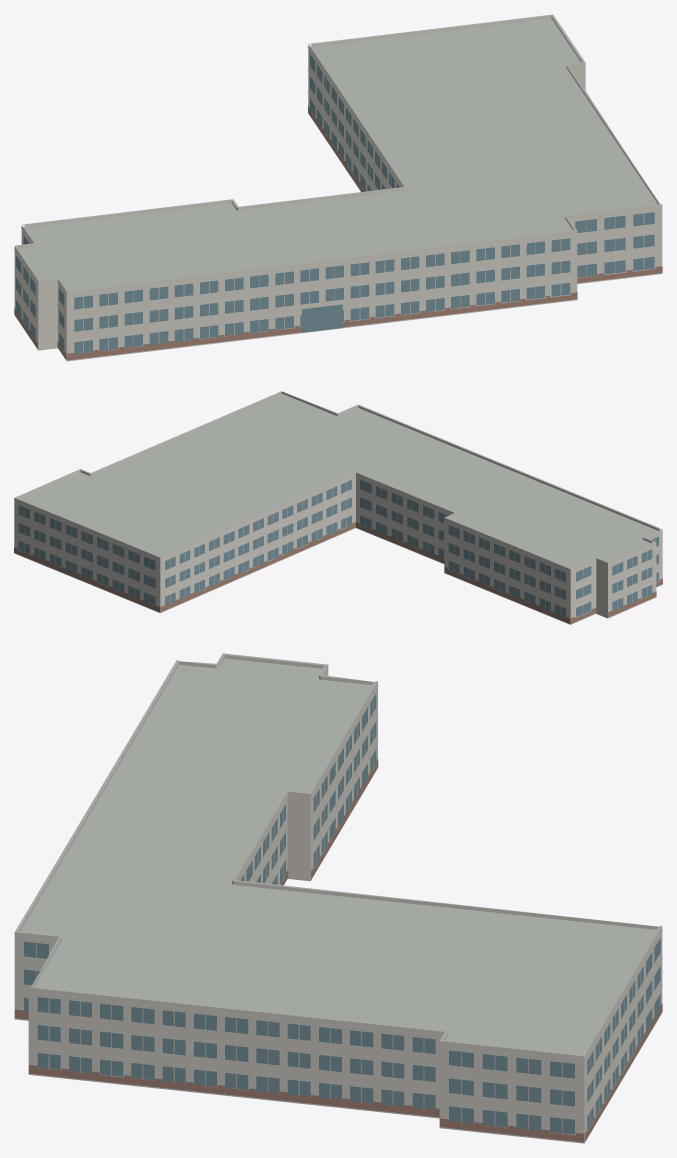
The model's file is public-1fbb80f8-62ca-446e-9da2-e56ec0eb8c05.glb.
3 renders of one model, top to bottom at view 1: azimuth 30°, elevation 25°; view 2: azimuth 150°, elevation 25°; view 3: azimuth 270°, elevation 25°, orthographic. The views are drawn at different scales.
Visible parts, largest first — view 1: public-1fbb80f8-62ca-446e-9da2-e56ec0eb8c05; view 2: public-1fbb80f8-62ca-446e-9da2-e56ec0eb8c05; view 3: public-1fbb80f8-62ca-446e-9da2-e56ec0eb8c05.
Part boxes in pixels (x1=…): public-1fbb80f8-62ca-446e-9da2-e56ec0eb8c05: x1=14, y1=14, x2=662, y2=361; public-1fbb80f8-62ca-446e-9da2-e56ec0eb8c05: x1=14, y1=391, x2=662, y2=624; public-1fbb80f8-62ca-446e-9da2-e56ec0eb8c05: x1=14, y1=653, x2=662, y2=1143.
Size of the model in its own units: 90.74 by 9.15 by 61.66.
